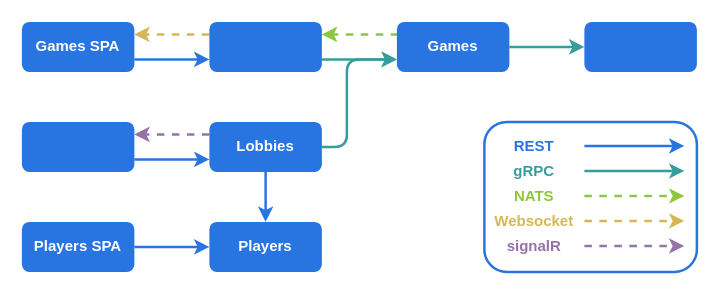
This 719x294 diagram has some shape labels left out. Here are the shapes that lost their labels. From the top down, the box of each, then its label:
(209, 21, 321, 71): Games BFF
(584, 21, 696, 71): Words
(21, 121, 134, 171): Lobbies SPA
